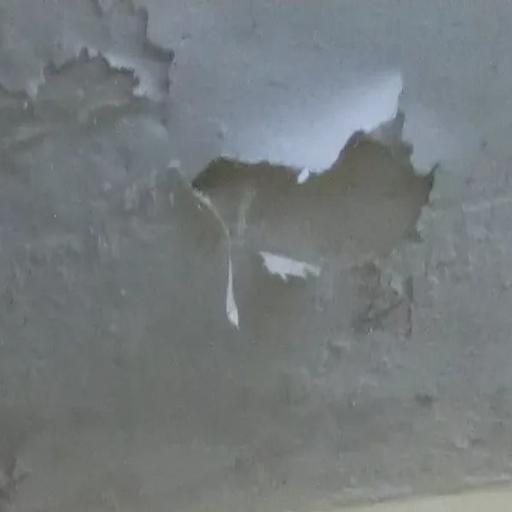peeling: (0, 0, 450, 344)
